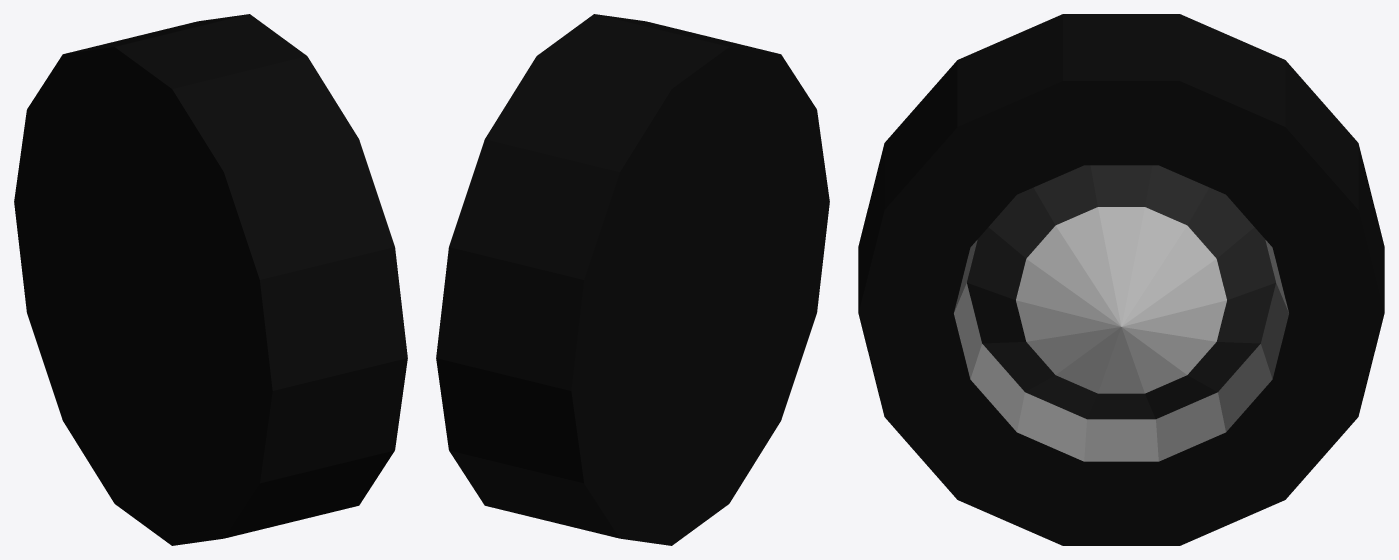
Rendered from WheelPickUpFrontLeft.fbx.
3 renders of one model, left to right at view 1: azimuth 30°, elevation 25°; view 2: azimuth 150°, elevation 25°; view 3: azimuth 270°, elevation 25°, orthographic.
Parts seen in each view (by area): view 1: WheelPickUpFrontLeft; view 2: WheelPickUpFrontLeft; view 3: WheelPickUpFrontLeft.
Part boxes in pixels (left/top/right/bottom): WheelPickUpFrontLeft: left=14, top=14, right=407, bottom=545; WheelPickUpFrontLeft: left=436, top=14, right=829, bottom=545; WheelPickUpFrontLeft: left=858, top=14, right=1384, bottom=545.
Bounding box in the file's own units: 0.1948 × 0.6094 × 0.6251.
